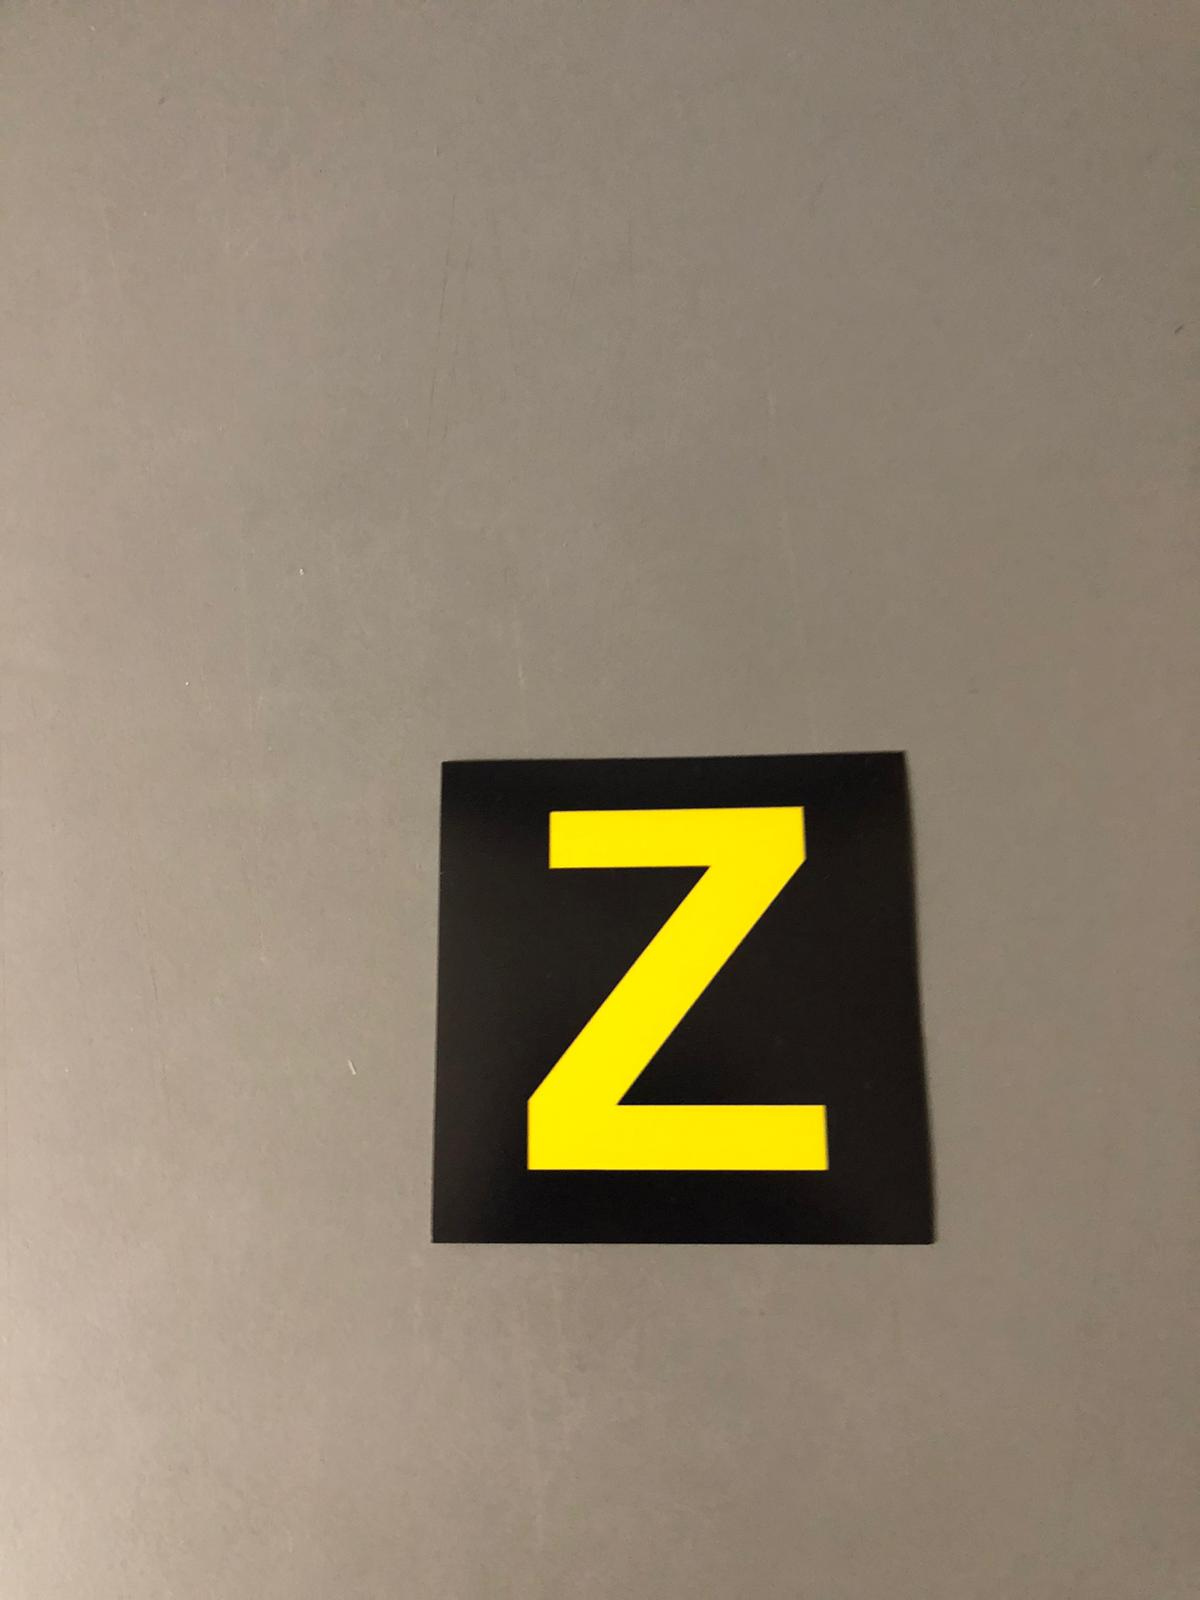Z: (445, 777, 900, 1225)
